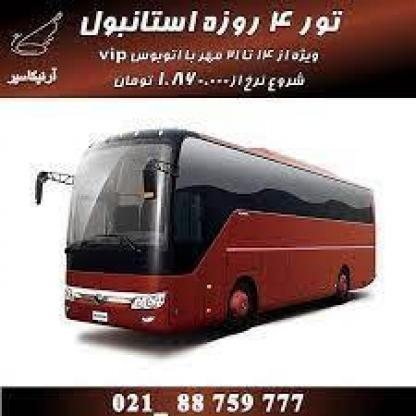Bus: (28, 126, 386, 344)
